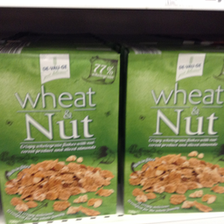cereal: (1, 47, 121, 224), (123, 46, 224, 213)
